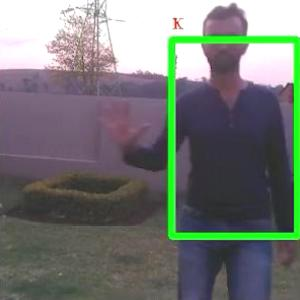follow_hand: (94, 93, 152, 150)
